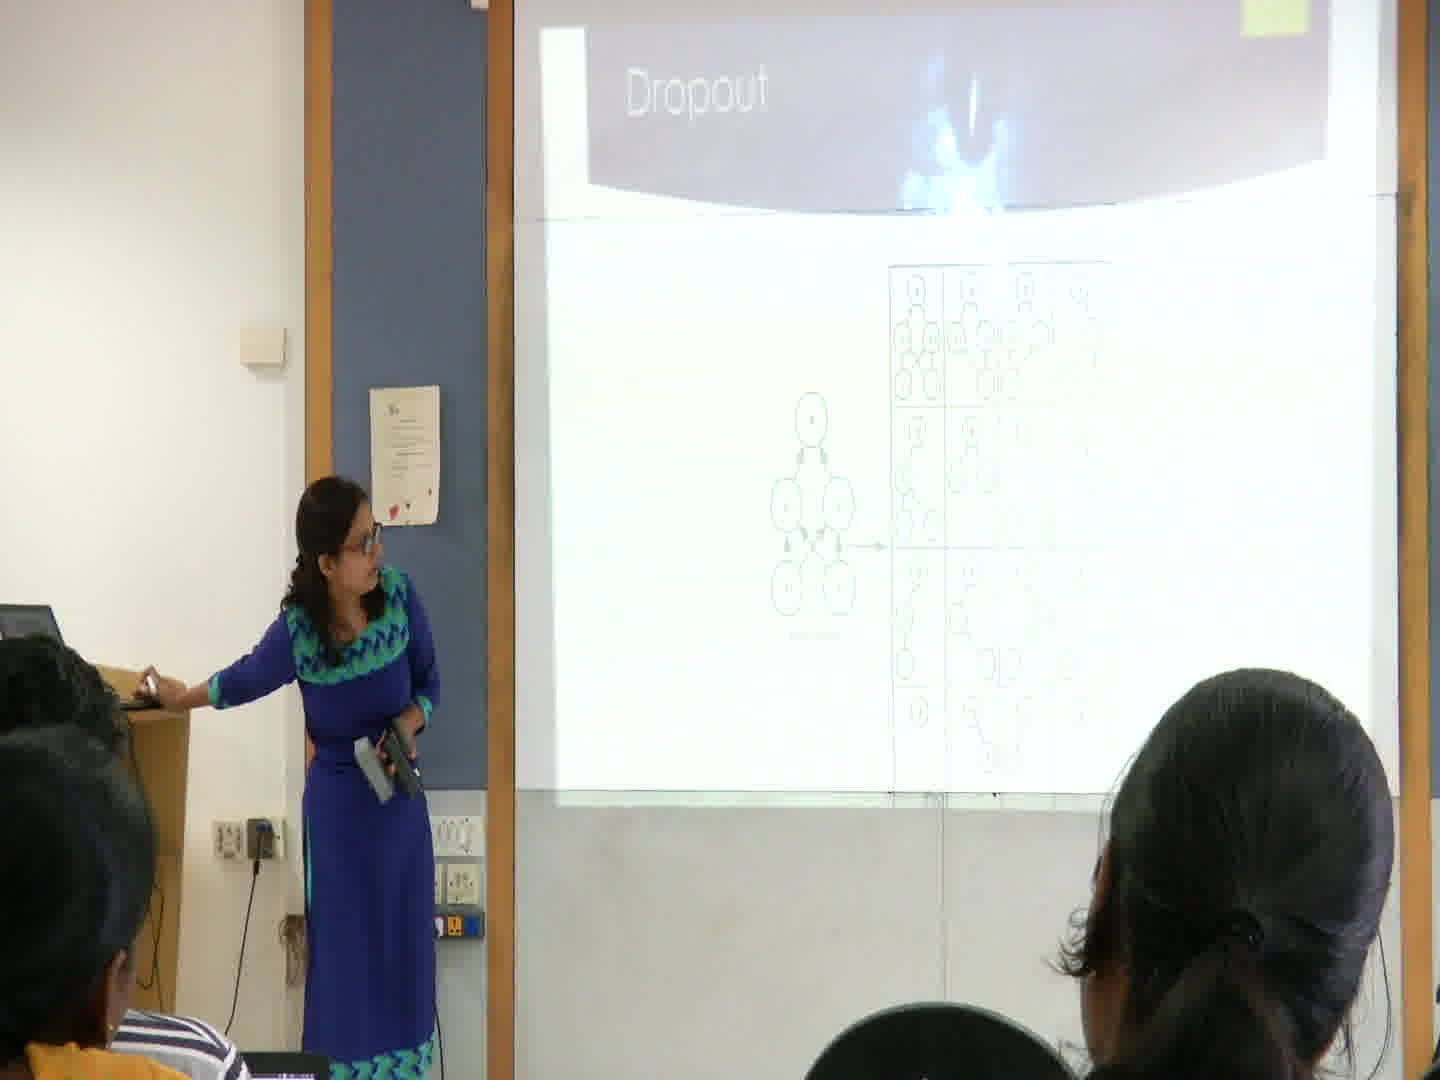fig: (888, 258, 1102, 809), (765, 387, 853, 650)
